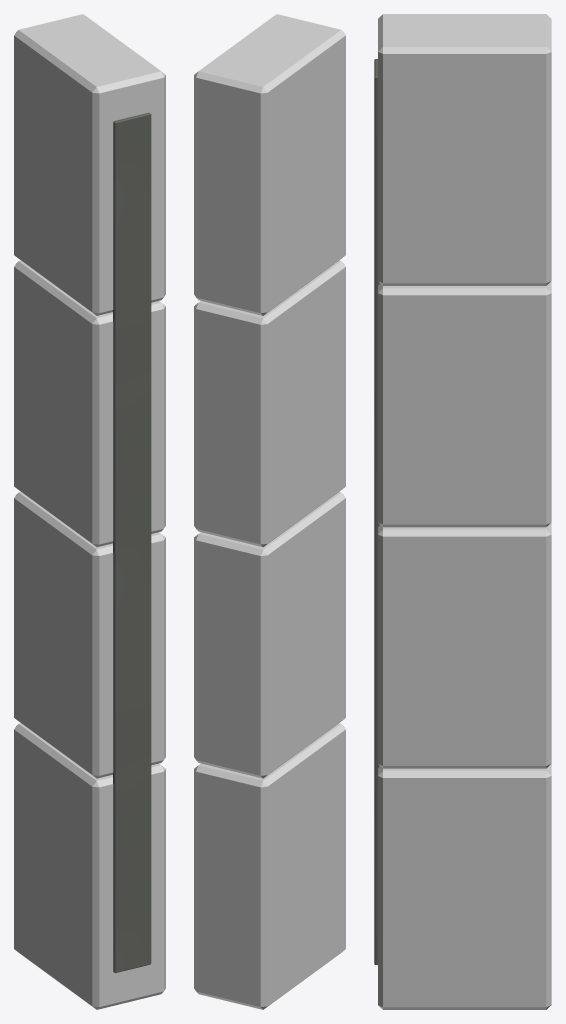
The model's file is WarrensC_CCS34_GateFramePost_Mars_SM.fbx.
3 views of the same model, side by side, from view 1: azimuth 30°, elevation 25°; view 2: azimuth 150°, elevation 25°; view 3: azimuth 270°, elevation 25° (orthographic). The views are drawn at different scales.
Visible parts, largest first — view 1: WarrensC_CCS34_GateFramePost_Mars_SM.001; view 2: WarrensC_CCS34_GateFramePost_Mars_SM.001; view 3: WarrensC_CCS34_GateFramePost_Mars_SM.001.
Boxes of the visible parts, <box> form: WarrensC_CCS34_GateFramePost_Mars_SM.001: <box>14,14,165,1009</box>; WarrensC_CCS34_GateFramePost_Mars_SM.001: <box>194,14,345,1009</box>; WarrensC_CCS34_GateFramePost_Mars_SM.001: <box>374,14,551,1009</box>.
Bounding box in the file's own units: 20 × 40 × 240.
